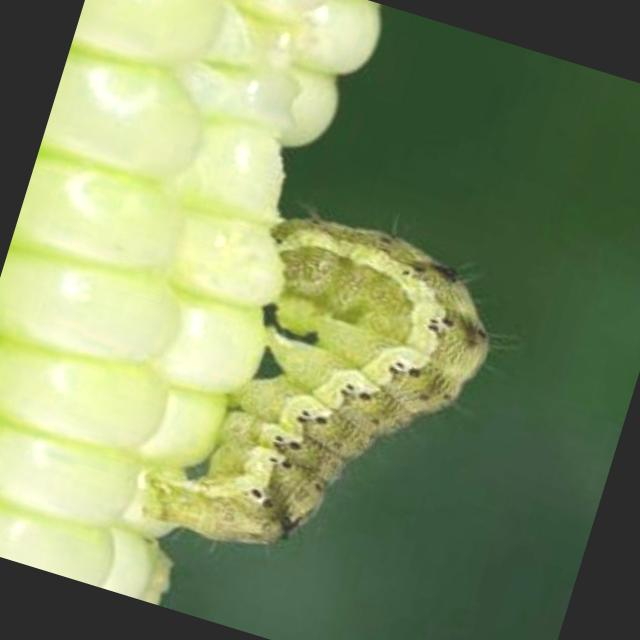Cotton bollworm: (94, 144, 538, 636)
